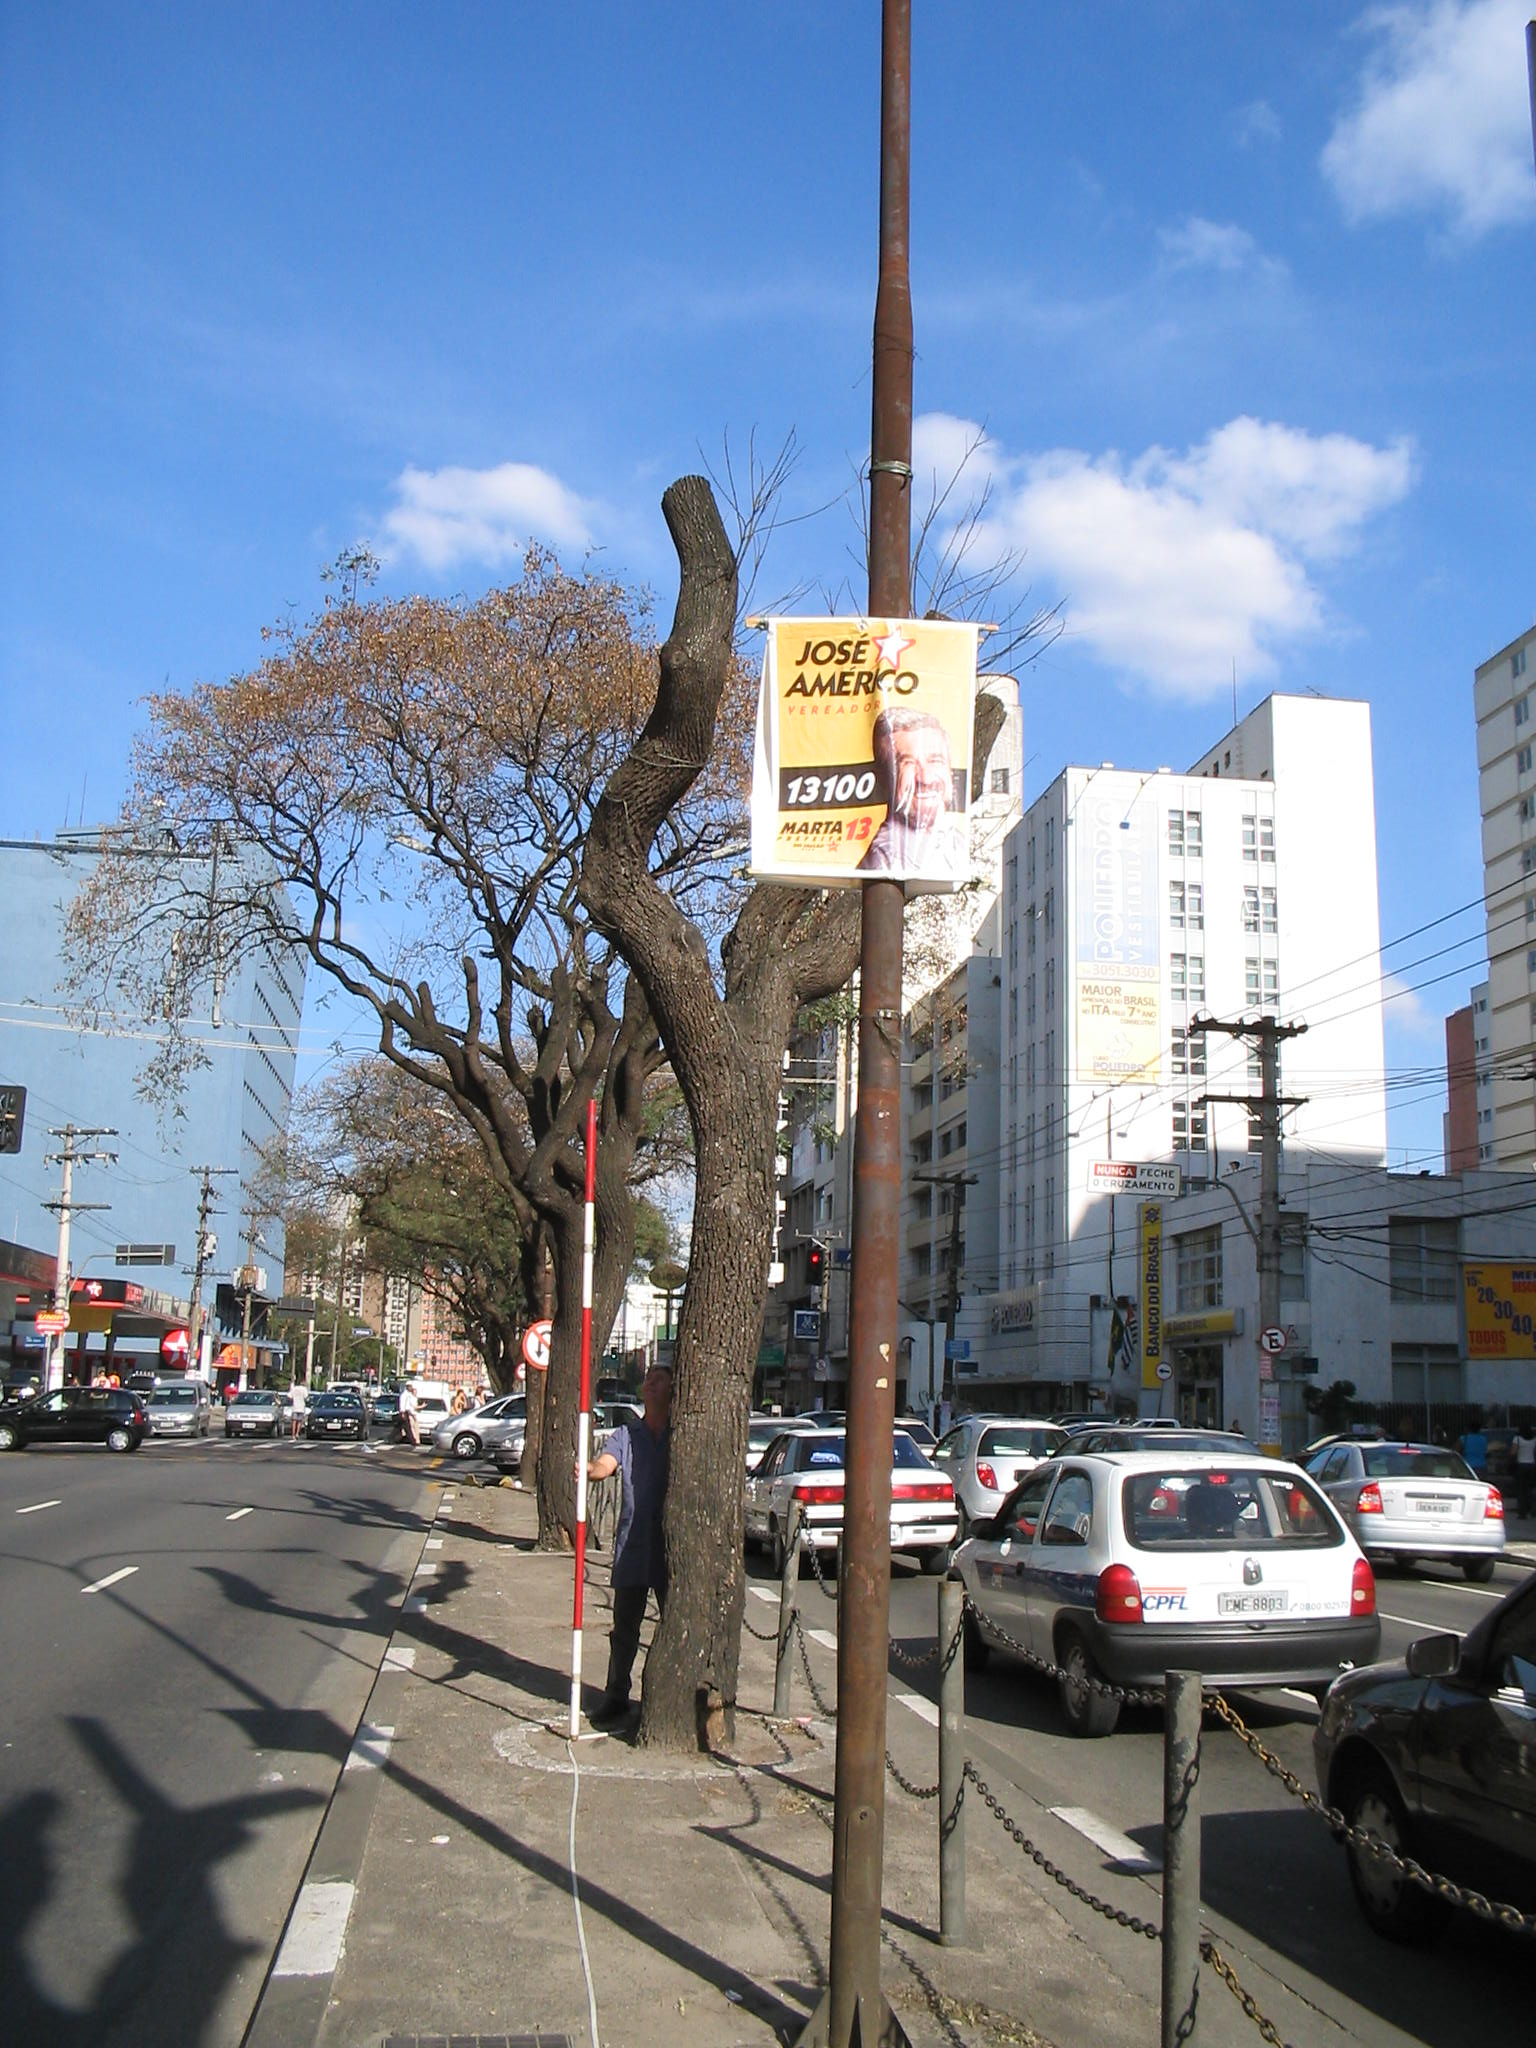stem: (615, 1076, 829, 1763)
stick: (552, 1097, 611, 1737)
tree: (579, 466, 1021, 1746)
